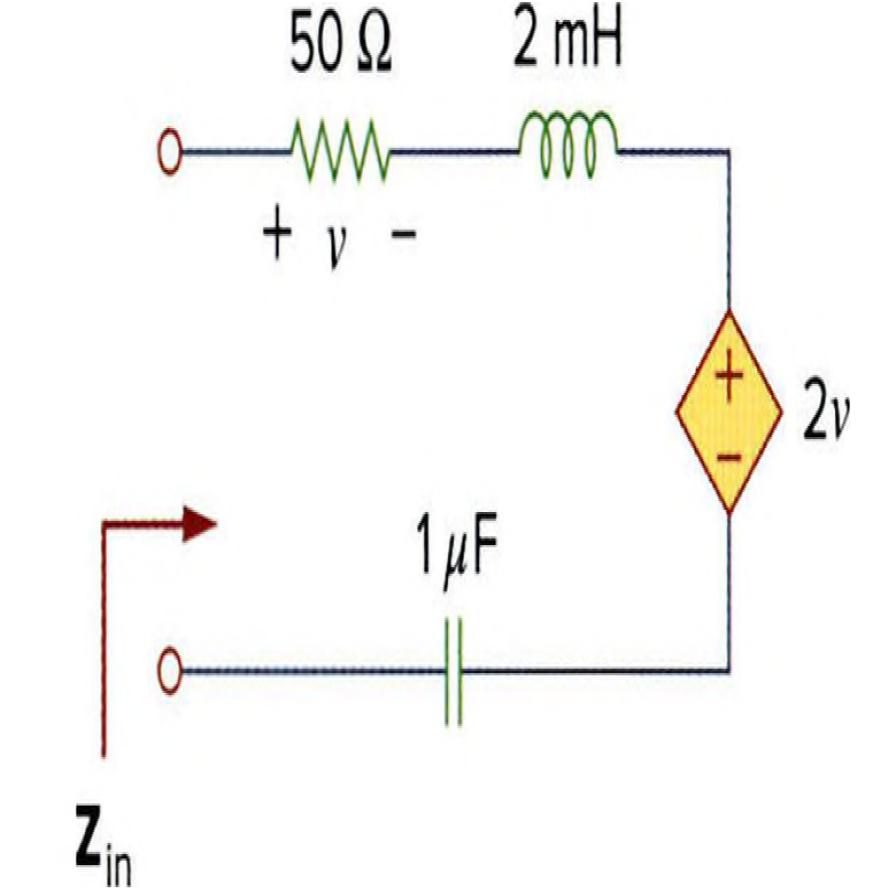C1: (414, 588, 491, 740)
L1: (497, 86, 630, 204)
